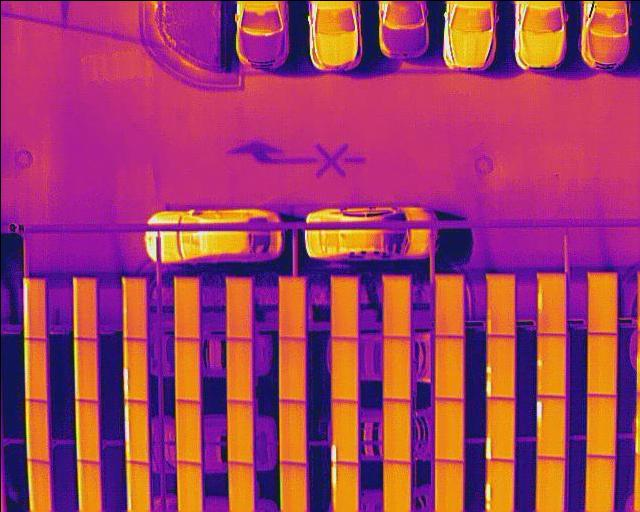Cell: (535, 332, 565, 396)
No-Anomaly: (432, 273, 463, 335), (585, 271, 616, 332), (432, 335, 462, 398), (484, 272, 513, 337), (277, 399, 306, 464), (381, 336, 410, 400), (329, 336, 357, 402), (278, 336, 306, 402), (585, 334, 615, 395), (381, 273, 410, 336), (433, 398, 462, 461), (330, 275, 358, 338), (225, 336, 252, 401), (277, 276, 305, 338), (585, 395, 613, 456), (225, 399, 252, 462), (22, 338, 49, 401), (535, 456, 565, 512), (382, 400, 409, 462), (225, 275, 251, 338), (174, 399, 200, 462), (72, 338, 98, 401), (584, 457, 613, 512), (174, 275, 199, 338), (74, 400, 99, 463), (24, 398, 49, 461), (122, 276, 147, 339), (174, 337, 198, 401), (72, 277, 96, 340), (433, 460, 462, 512), (382, 461, 410, 512), (174, 461, 200, 512), (279, 463, 306, 512), (226, 463, 253, 512), (76, 460, 100, 512), (26, 460, 49, 512), (124, 462, 147, 512)
Unclassified: (485, 397, 515, 459), (534, 395, 564, 457), (328, 401, 357, 463), (535, 273, 564, 334), (486, 334, 514, 397), (21, 277, 46, 340), (484, 459, 513, 512), (124, 398, 147, 463), (123, 337, 146, 402), (330, 462, 358, 512)
